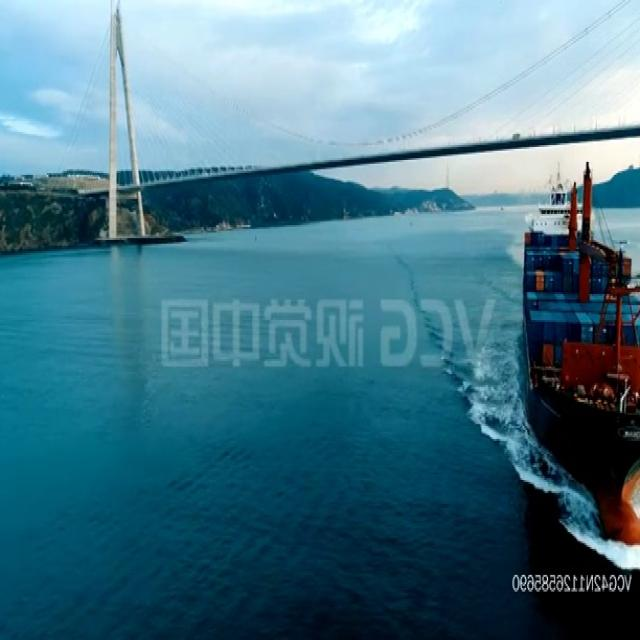cargoship: (519, 156, 640, 545)
